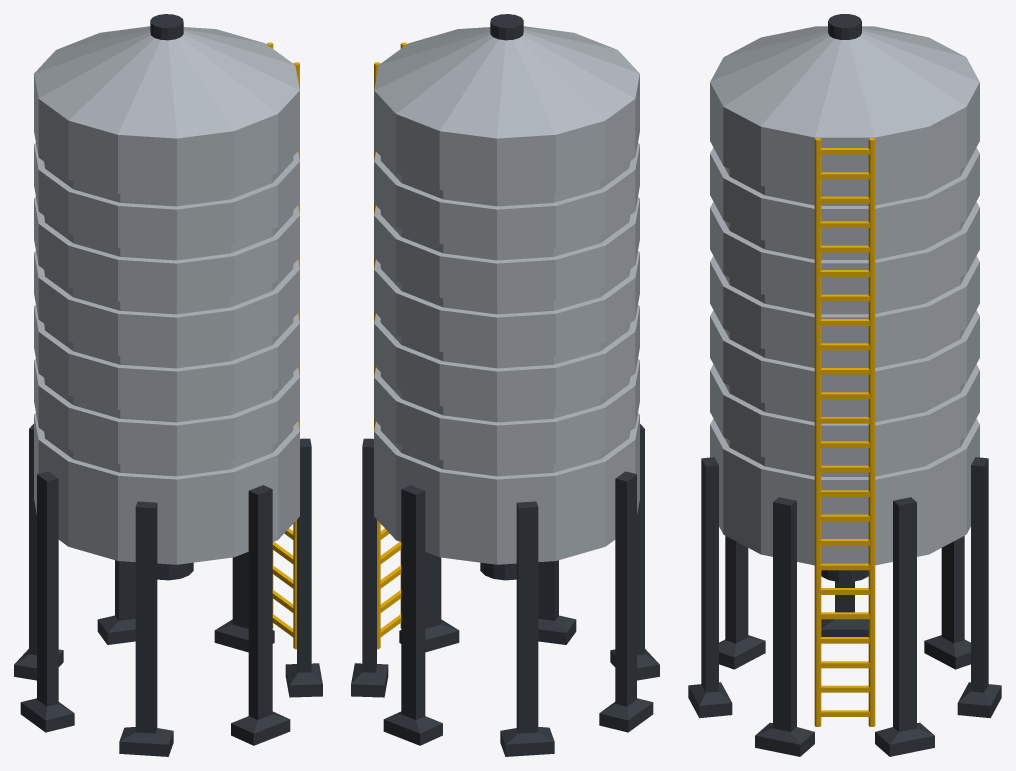
Rendered from Silo1.fbx.
3 renders of one model, left to right at view 1: azimuth 30°, elevation 25°; view 2: azimuth 150°, elevation 25°; view 3: azimuth 270°, elevation 25°, orthographic.
Visible parts, largest first — view 1: Silo1_Tank, Silo1_Support, Silo1_Ladder; view 2: Silo1_Tank, Silo1_Support, Silo1_Ladder; view 3: Silo1_Tank, Silo1_Support, Silo1_Ladder.
Boxes of the visible parts, box(x1,y1,x2,y2) form: Silo1_Tank: box(34, 14, 299, 580); Silo1_Support: box(14, 424, 322, 756); Silo1_Ladder: box(267, 42, 299, 649); Silo1_Tank: box(374, 14, 639, 580); Silo1_Support: box(351, 424, 659, 756); Silo1_Ladder: box(374, 42, 406, 649); Silo1_Tank: box(710, 14, 979, 582); Silo1_Support: box(688, 457, 1001, 756); Silo1_Ladder: box(814, 138, 875, 726).
Size of the model in its own units: 453 by 1100 by 465.
